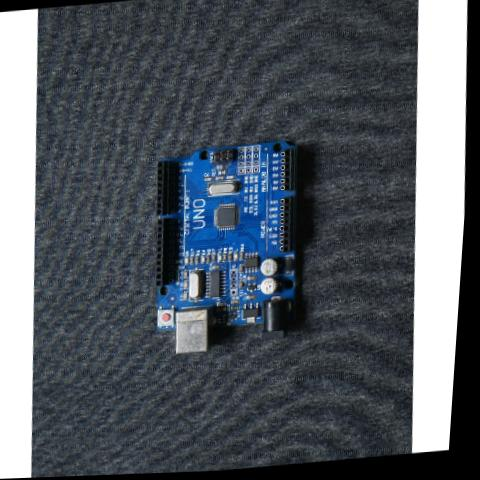Arduino-Uno: (144, 136, 313, 360)
